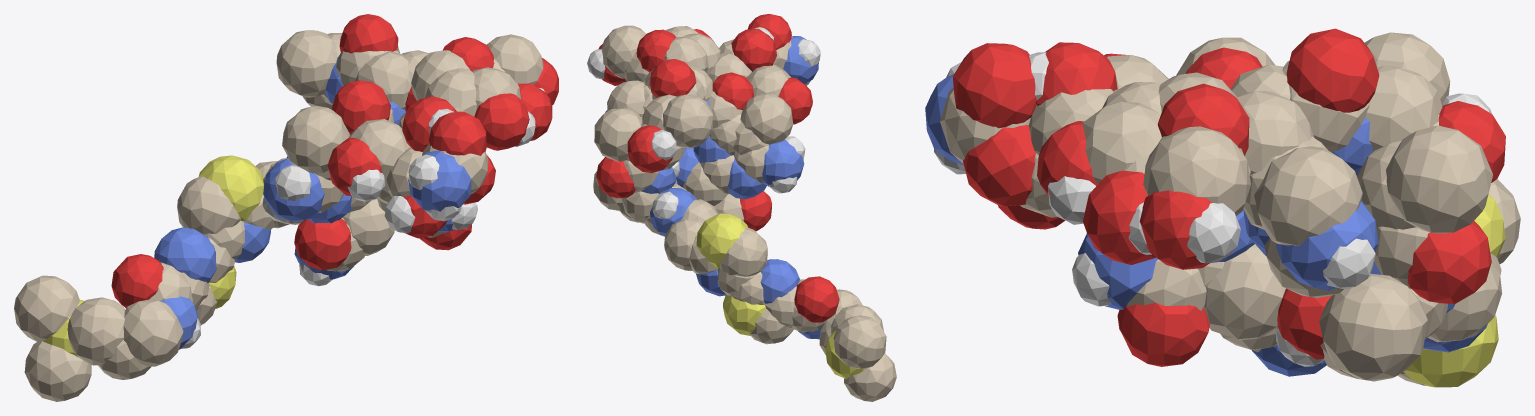
File: BLMed.fbx
The picture shows the model from 3 angles, left to right: view 1: azimuth 30°, elevation 25°; view 2: azimuth 150°, elevation 25°; view 3: azimuth 270°, elevation 25°; orthographic projection. The views are drawn at different scales.
Visible parts, largest first — view 1: ShapeSphere.091; view 2: ShapeSphere.091; view 3: ShapeSphere.091.
Part boxes in pixels (left/top/right/bottom): ShapeSphere.091: left=14, top=14, right=558, bottom=401; ShapeSphere.091: left=587, top=14, right=896, bottom=401; ShapeSphere.091: left=925, top=28, right=1520, bottom=387.
Bounding box in the file's own units: 2615 × 1850 × 1878.
